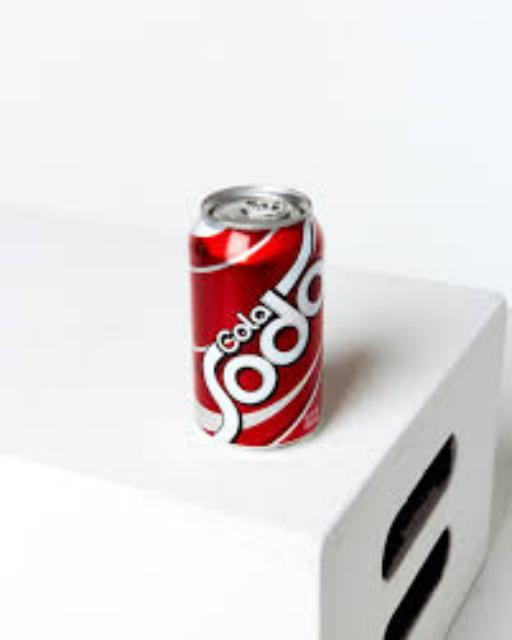metal: (186, 184, 319, 441)
